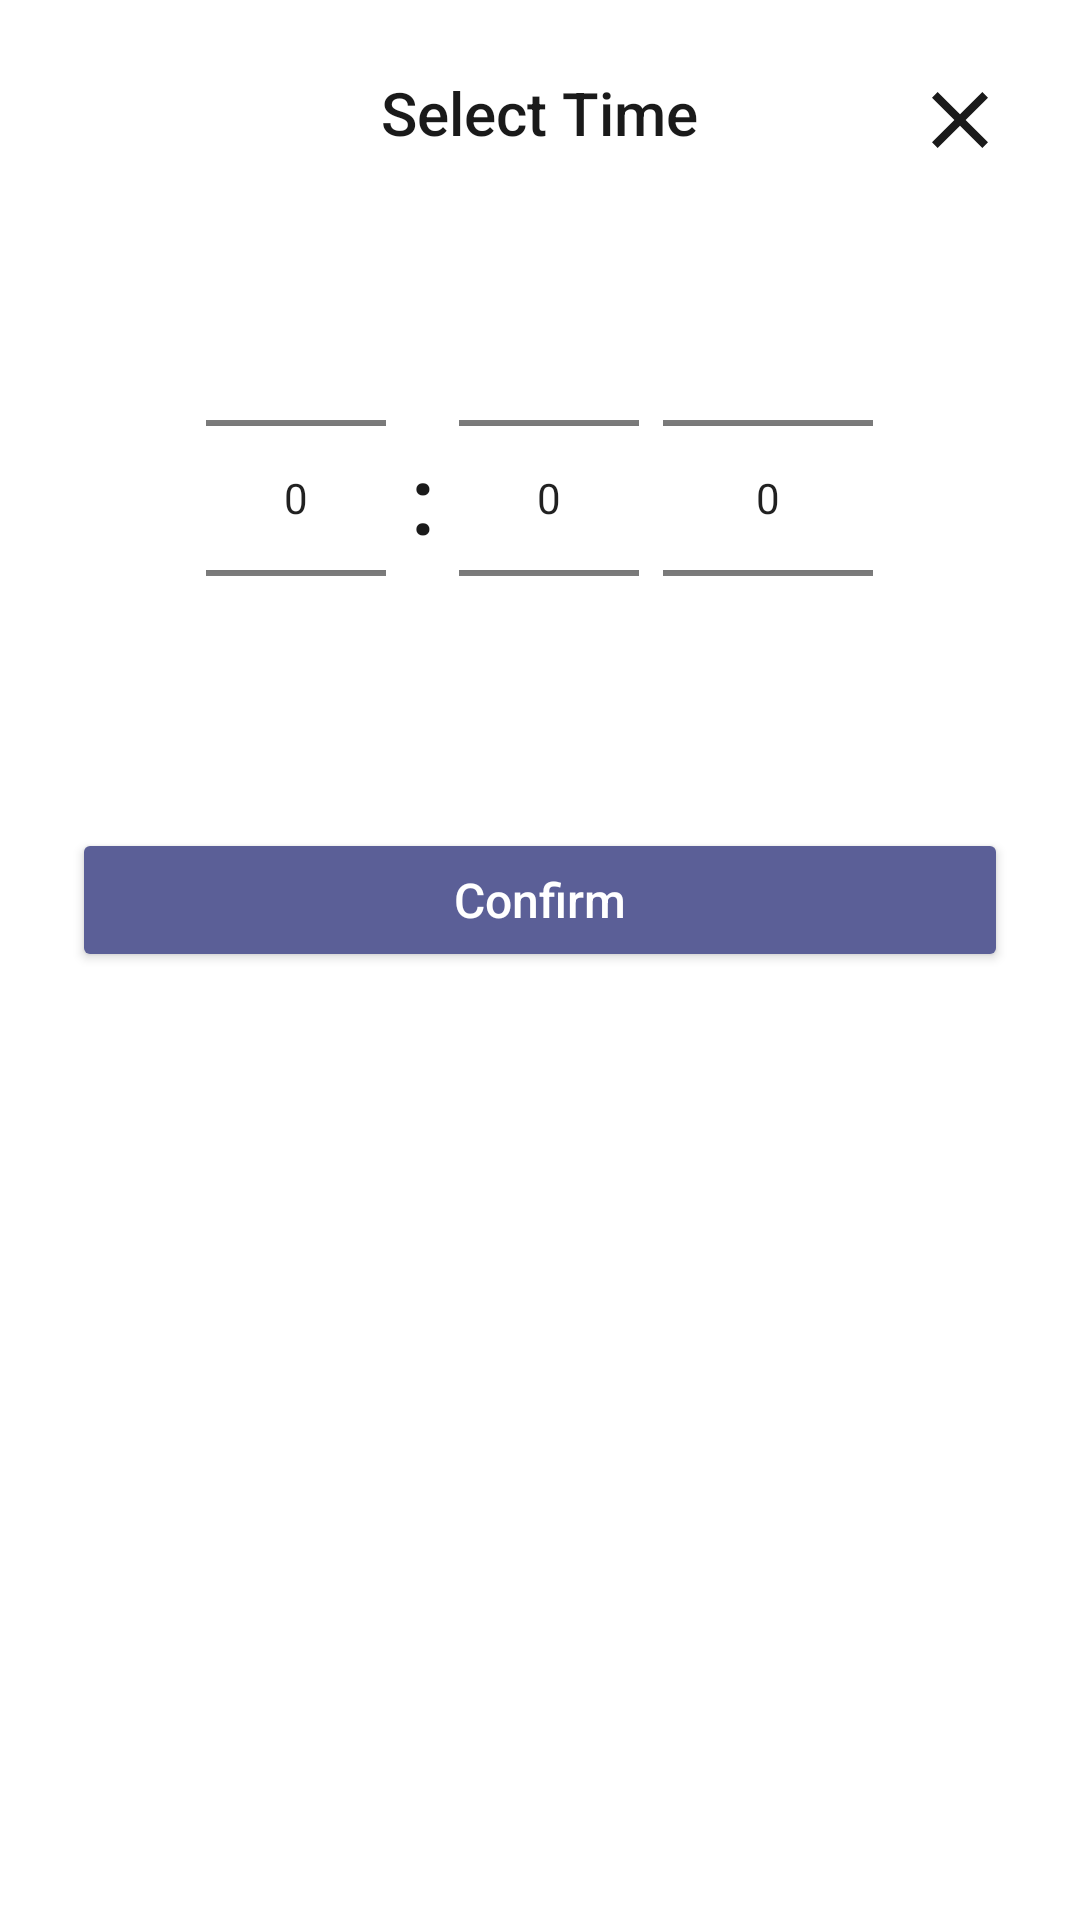

Screen size 1080 × 1920. Icon name, then its center in pixels as (x=x, y=y):
Close: (x=960, y=120)
